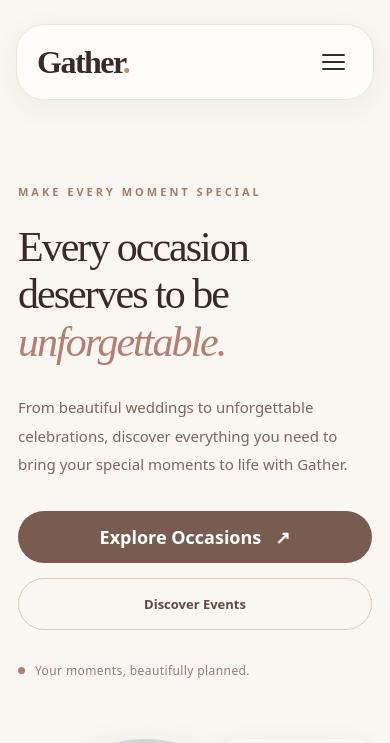
it: Mobile navigation menu › contains authentication links when opened
Click the button named "Open navigation menu" at {"x": 334, "y": 62}, box [314,46,353,78]
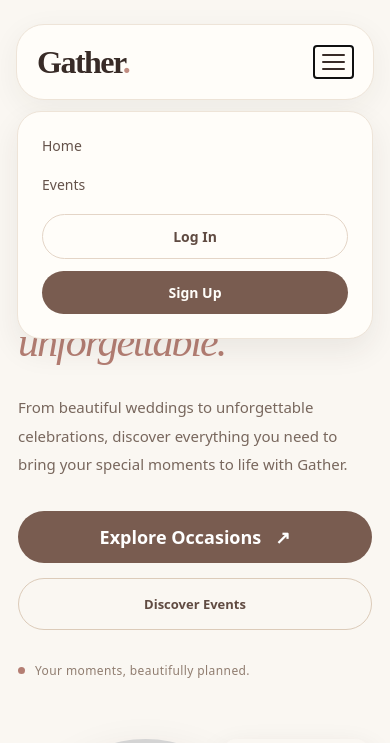
Expected: the link "Log In" is shown, [42,214,348,259]
Expected: the link "Sign Up" is shown, [42,271,348,314]
